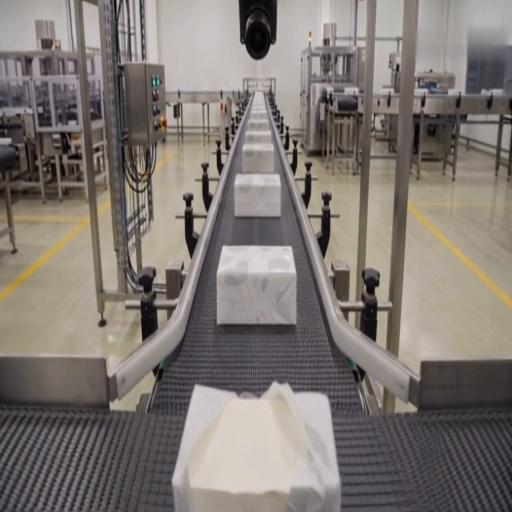defective: (174, 380, 340, 511), (216, 245, 296, 327)
good: (233, 174, 283, 218), (242, 142, 276, 174), (244, 123, 272, 145), (246, 112, 270, 128), (248, 94, 269, 110)
